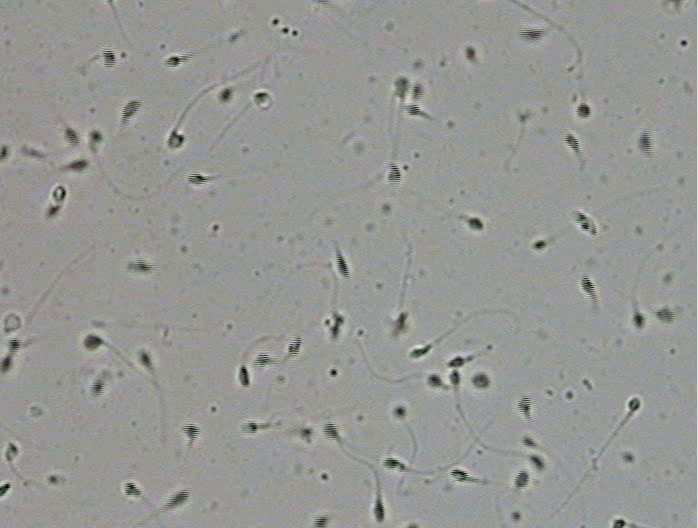S: (573, 210, 596, 235), (166, 490, 190, 509), (122, 100, 141, 119), (335, 254, 350, 278), (564, 132, 580, 154), (330, 314, 344, 339), (387, 162, 402, 185), (637, 131, 652, 154), (517, 395, 532, 417), (581, 275, 596, 297), (182, 423, 200, 441), (393, 76, 408, 97), (322, 421, 339, 439), (83, 334, 103, 349), (655, 308, 675, 323), (129, 260, 152, 273), (373, 499, 385, 523), (514, 470, 530, 488), (409, 345, 431, 358), (288, 336, 302, 356), (5, 442, 19, 462), (520, 28, 543, 40), (394, 312, 407, 333), (168, 132, 185, 148), (102, 49, 116, 68), (450, 469, 469, 483), (238, 365, 250, 387), (529, 454, 545, 470), (472, 373, 489, 388), (69, 159, 88, 172), (64, 128, 79, 144), (576, 102, 591, 118), (253, 353, 270, 367), (188, 172, 206, 185), (90, 380, 104, 396), (52, 186, 66, 202), (124, 483, 141, 496), (411, 83, 424, 100), (7, 337, 20, 353), (139, 351, 152, 367), (427, 374, 443, 387), (467, 217, 483, 230), (243, 420, 257, 434), (88, 131, 103, 144), (628, 397, 641, 412), (253, 92, 269, 104), (383, 457, 399, 469), (1, 355, 12, 372), (403, 104, 420, 115), (219, 88, 232, 102), (314, 515, 328, 528), (164, 56, 180, 67), (633, 312, 644, 328), (450, 369, 460, 386), (448, 357, 465, 367), (46, 205, 60, 217), (298, 427, 312, 438), (1, 482, 11, 497), (532, 240, 547, 250), (464, 46, 475, 59), (522, 436, 534, 447), (612, 519, 626, 528), (394, 407, 406, 417), (1, 144, 8, 160), (319, 1, 328, 6)
